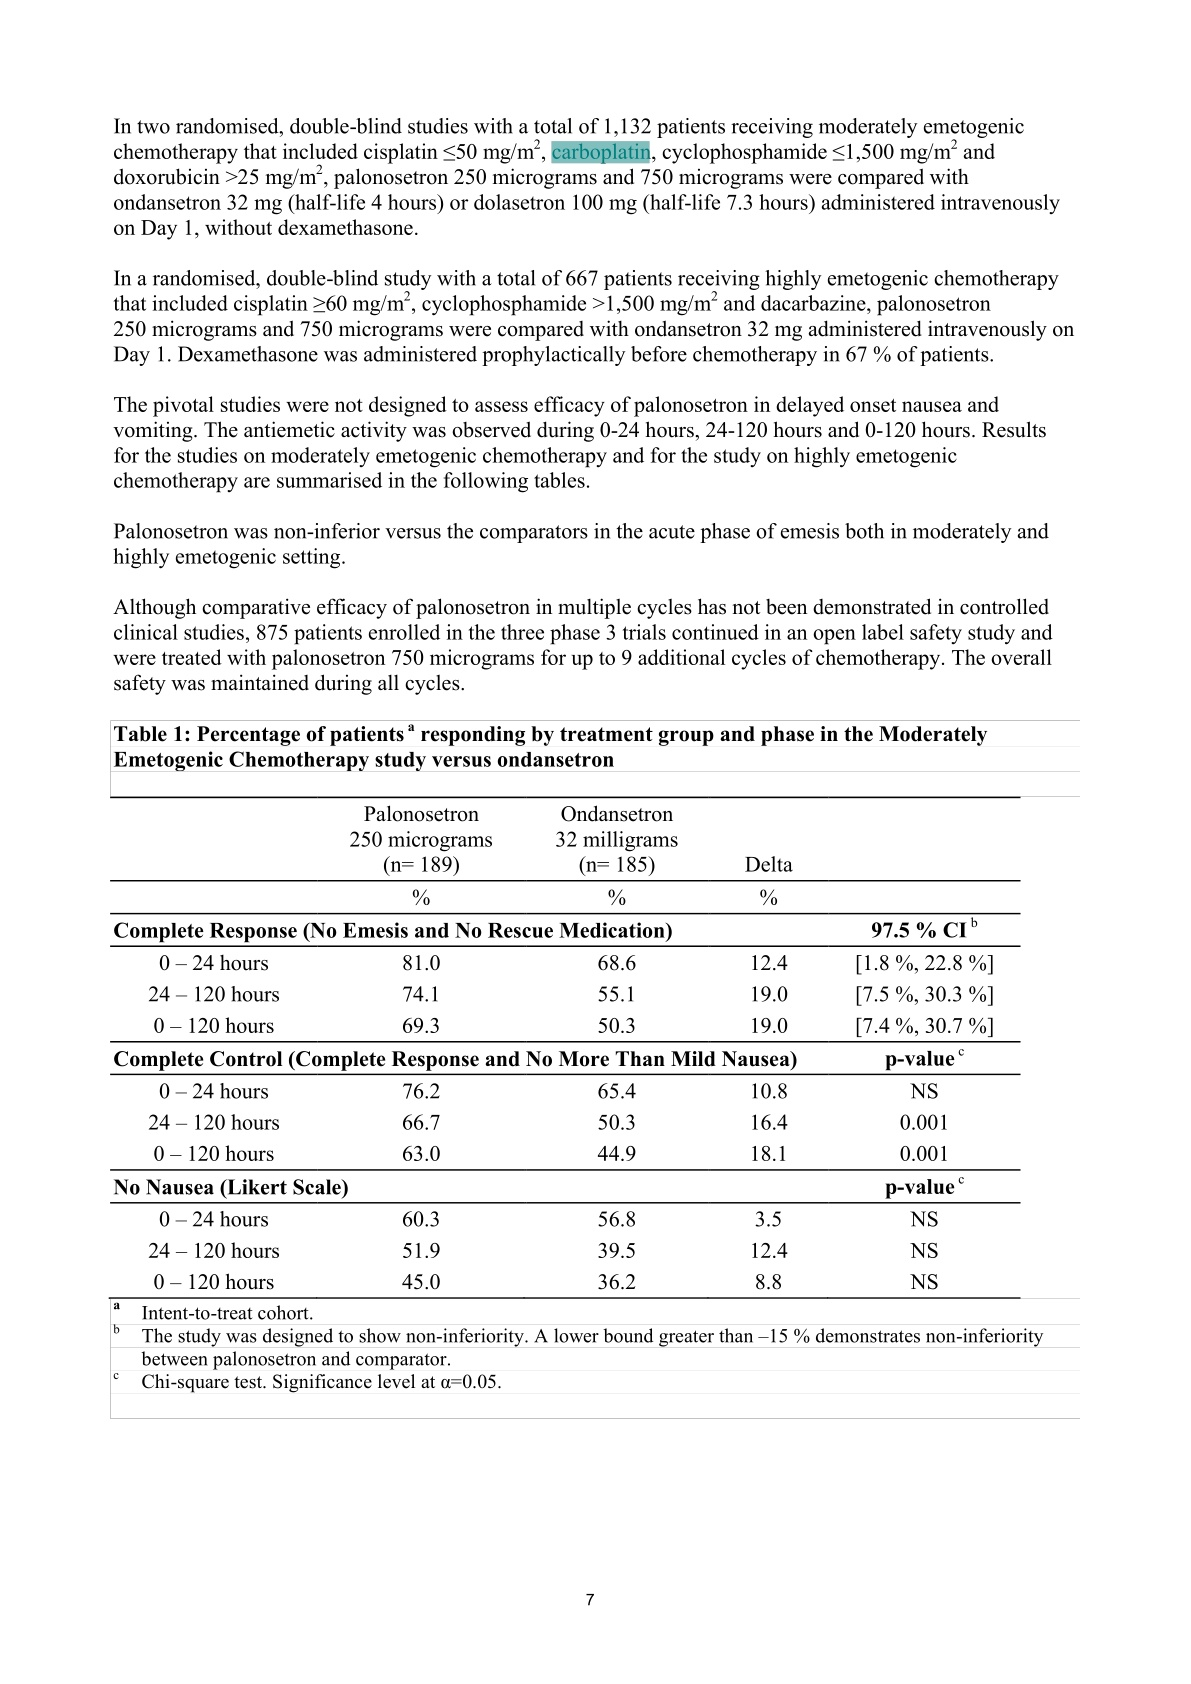partial_lined_merged_cells: (108, 794, 1022, 1301)
